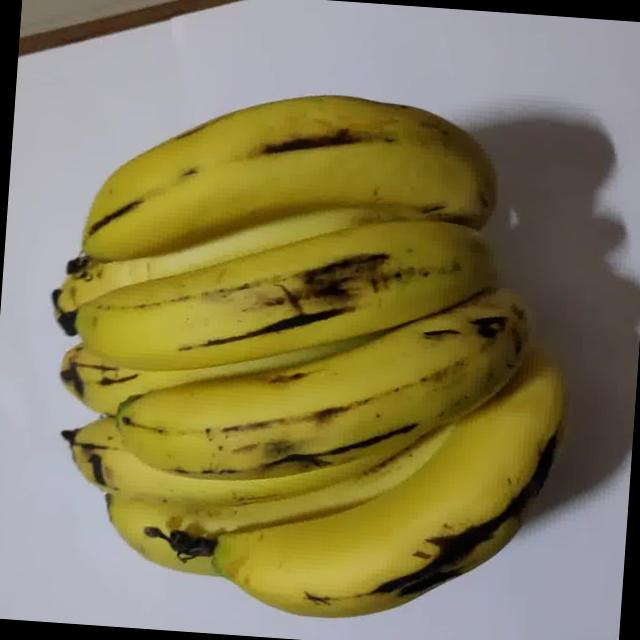banana_pacche: (10, 16, 640, 640)
